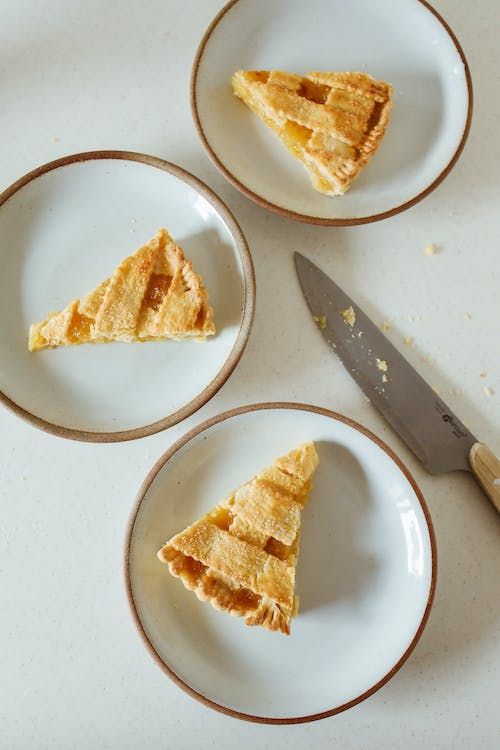knife: (291, 248, 500, 519)
